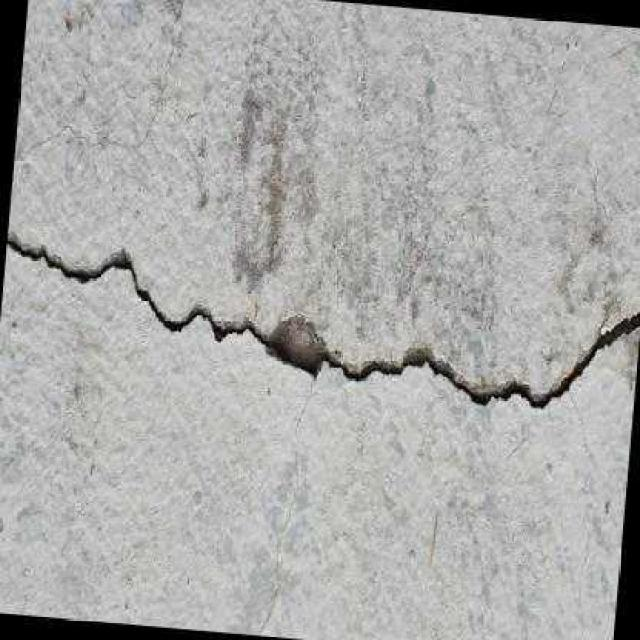D00: (6, 232, 640, 410)
